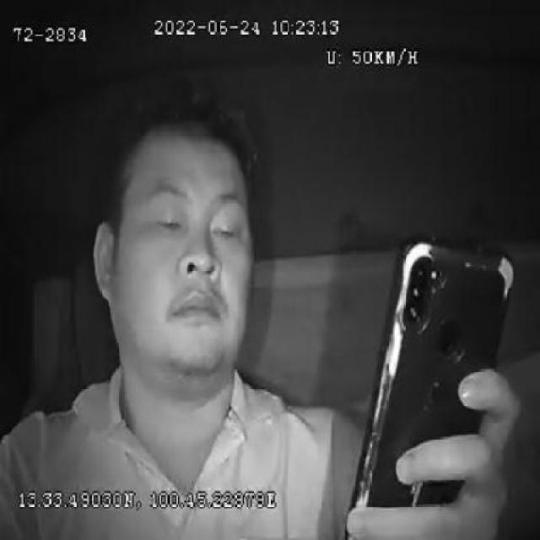phone: (347, 231, 515, 540)
